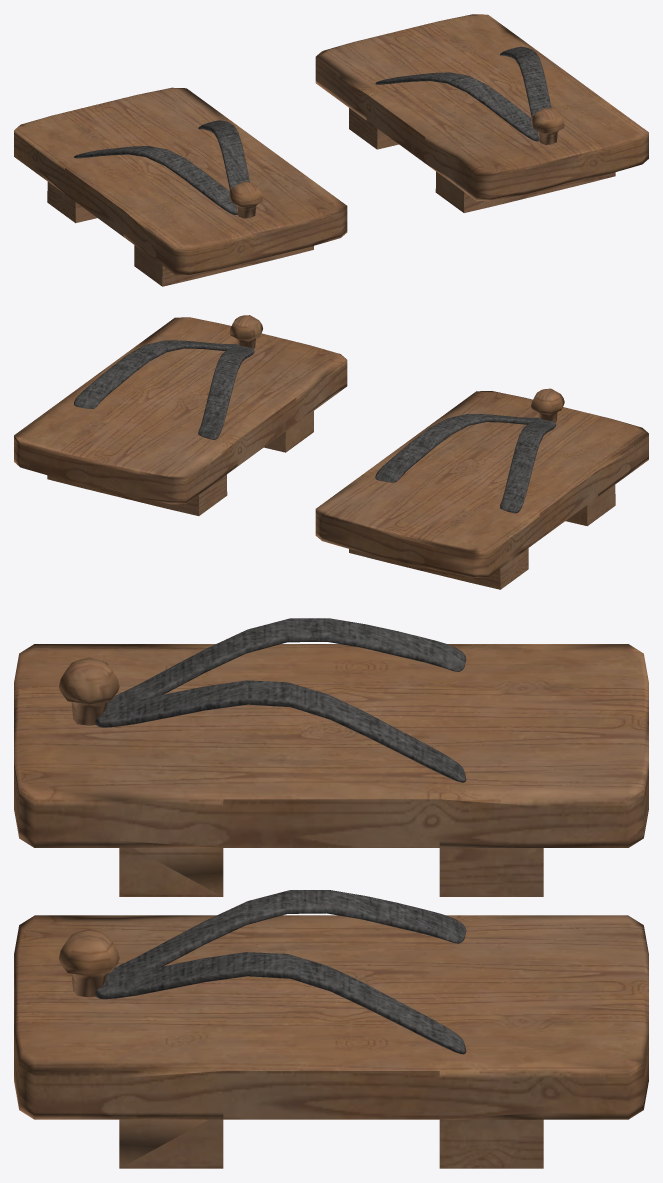
Rendered from geta-user-v52.glb.
3 views of the same model, one above another, from view 1: azimuth 30°, elevation 25°; view 2: azimuth 150°, elevation 25°; view 3: azimuth 270°, elevation 25° (orthographic). The views are drawn at different scales.
Parts seen in each view (by area): view 1: pCube9_lambert1_0; view 2: pCube9_lambert1_0; view 3: pCube9_lambert1_0.
Boxes of the visible parts, <box> form: pCube9_lambert1_0: <box>14,14,648,286</box>; pCube9_lambert1_0: <box>14,315,648,589</box>; pCube9_lambert1_0: <box>14,618,648,1168</box>.
Bounding box in the file's own units: 0.4059 × 0.076 × 0.255.
Materials: 1 (1 with a texture image).
